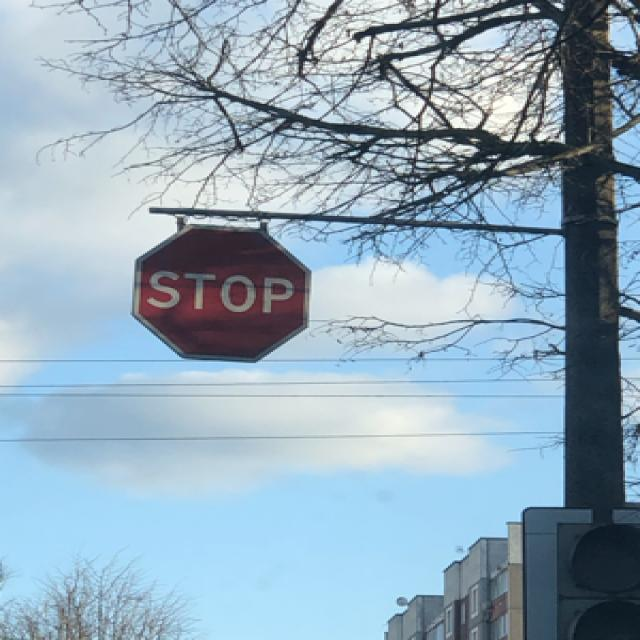stop: (129, 223, 315, 365)
